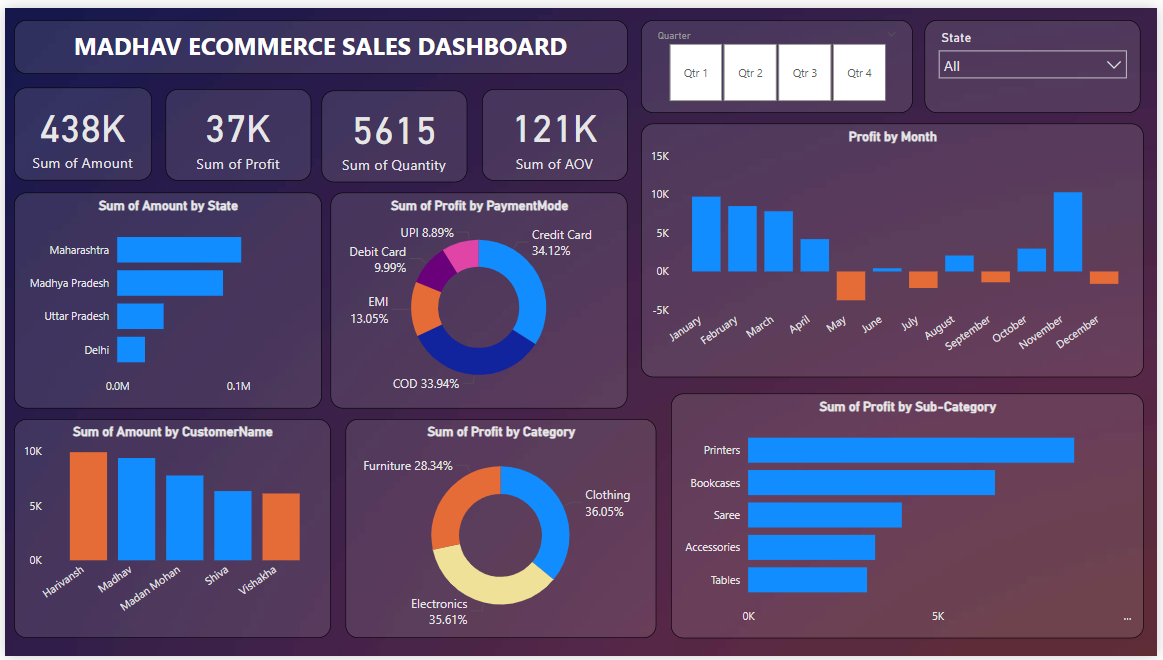

The dashboard page shown, as its layout file describes it:
{"tool":"powerbi","page":{"name":"Page 1","canvas":[1280,720],"ordinal":0},"visuals":[{"type":"textbox","box":[10,13.3,681.7,60],"z":0},{"type":"columnChart","title":"Profit by Month","fields":{"Y":["Details.Profit"],"Category":["Orders.Order Date.Variation.Date Hierarchy.Month"]},"box":[706.7,128.3,558.3,281.7],"z":1000},{"type":"barChart","fields":{"Category":["Details.Sub-Category"],"Y":["Details.Profit"]},"box":[740,428.3,525,271.7],"z":2000},{"type":"donutChart","fields":{"Category":["Details.Category"],"Y":["Details.Profit"]},"box":[378.3,456.7,345,243.3],"z":3000},{"type":"donutChart","fields":{"Y":["Details.Profit"],"Category":["Details.PaymentMode"]},"box":[361.7,205,330,240],"z":4000},{"type":"card","fields":{"Values":["Details.Amount"]},"box":[10,88.3,153.3,103.3],"z":5000},{"type":"card","fields":{"Values":["Details.Quantity"]},"box":[351.7,91.7,161.7,101.7],"z":6000},{"type":"card","fields":{"Values":["Details.Profit"]},"box":[178.3,90,161.7,101.7],"z":7000},{"type":"card","fields":{"Values":["Details.AOV"]},"box":[530,90,161.7,101.7],"z":8000},{"type":"barChart","fields":{"Category":["Orders.State"],"Y":["Details.Amount"]},"box":[10,205,336.7,240],"z":9000},{"type":"columnChart","fields":{"Category":["Orders.CustomerName"],"Y":["Details.Amount"]},"box":[10,466.7,351.7,233.3],"z":10000},{"type":"slicer","fields":{"Values":["Orders.Order Date.Variation.Date Hierarchy.Quarter"]},"box":[706.7,13.3,301.7,103.3],"z":10001},{"type":"slicer","fields":{"Values":["Orders.State"]},"box":[1021.7,13.3,240,103.3],"z":10003}]}

Visuals, with their boxes in screenshot pixels (x1, y1, x2, y2), scaled from the page's 1280x720 canvas onto the 1163x660 screenshot:
textbox: crop(9, 12, 628, 67)
"Profit by Month" columnChart: crop(642, 118, 1149, 376)
barChart - Details.Sub-Category x Details.Profit: crop(672, 393, 1149, 642)
donutChart - Details.Category x Details.Profit: crop(344, 419, 657, 642)
donutChart - Details.Profit x Details.PaymentMode: crop(329, 188, 628, 408)
card - Details.Amount: crop(9, 81, 148, 176)
card - Details.Quantity: crop(320, 84, 466, 177)
card - Details.Profit: crop(162, 82, 309, 176)
card - Details.AOV: crop(482, 82, 628, 176)
barChart - Orders.State x Details.Amount: crop(9, 188, 315, 408)
columnChart - Orders.CustomerName x Details.Amount: crop(9, 428, 329, 642)
slicer - Orders.Order Date.Variation.Date Hierarchy.Quarter: crop(642, 12, 916, 107)
slicer - Orders.State: crop(928, 12, 1146, 107)
